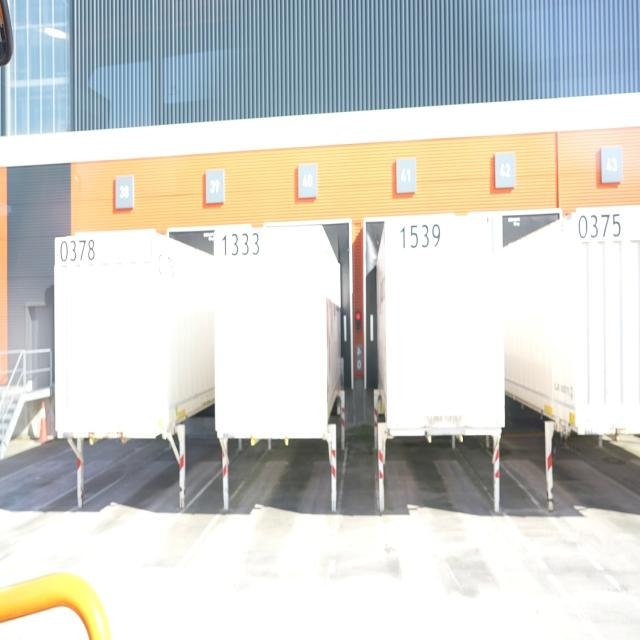Code: (576, 209, 622, 246), (398, 218, 445, 252), (220, 228, 262, 262), (58, 233, 98, 266)
